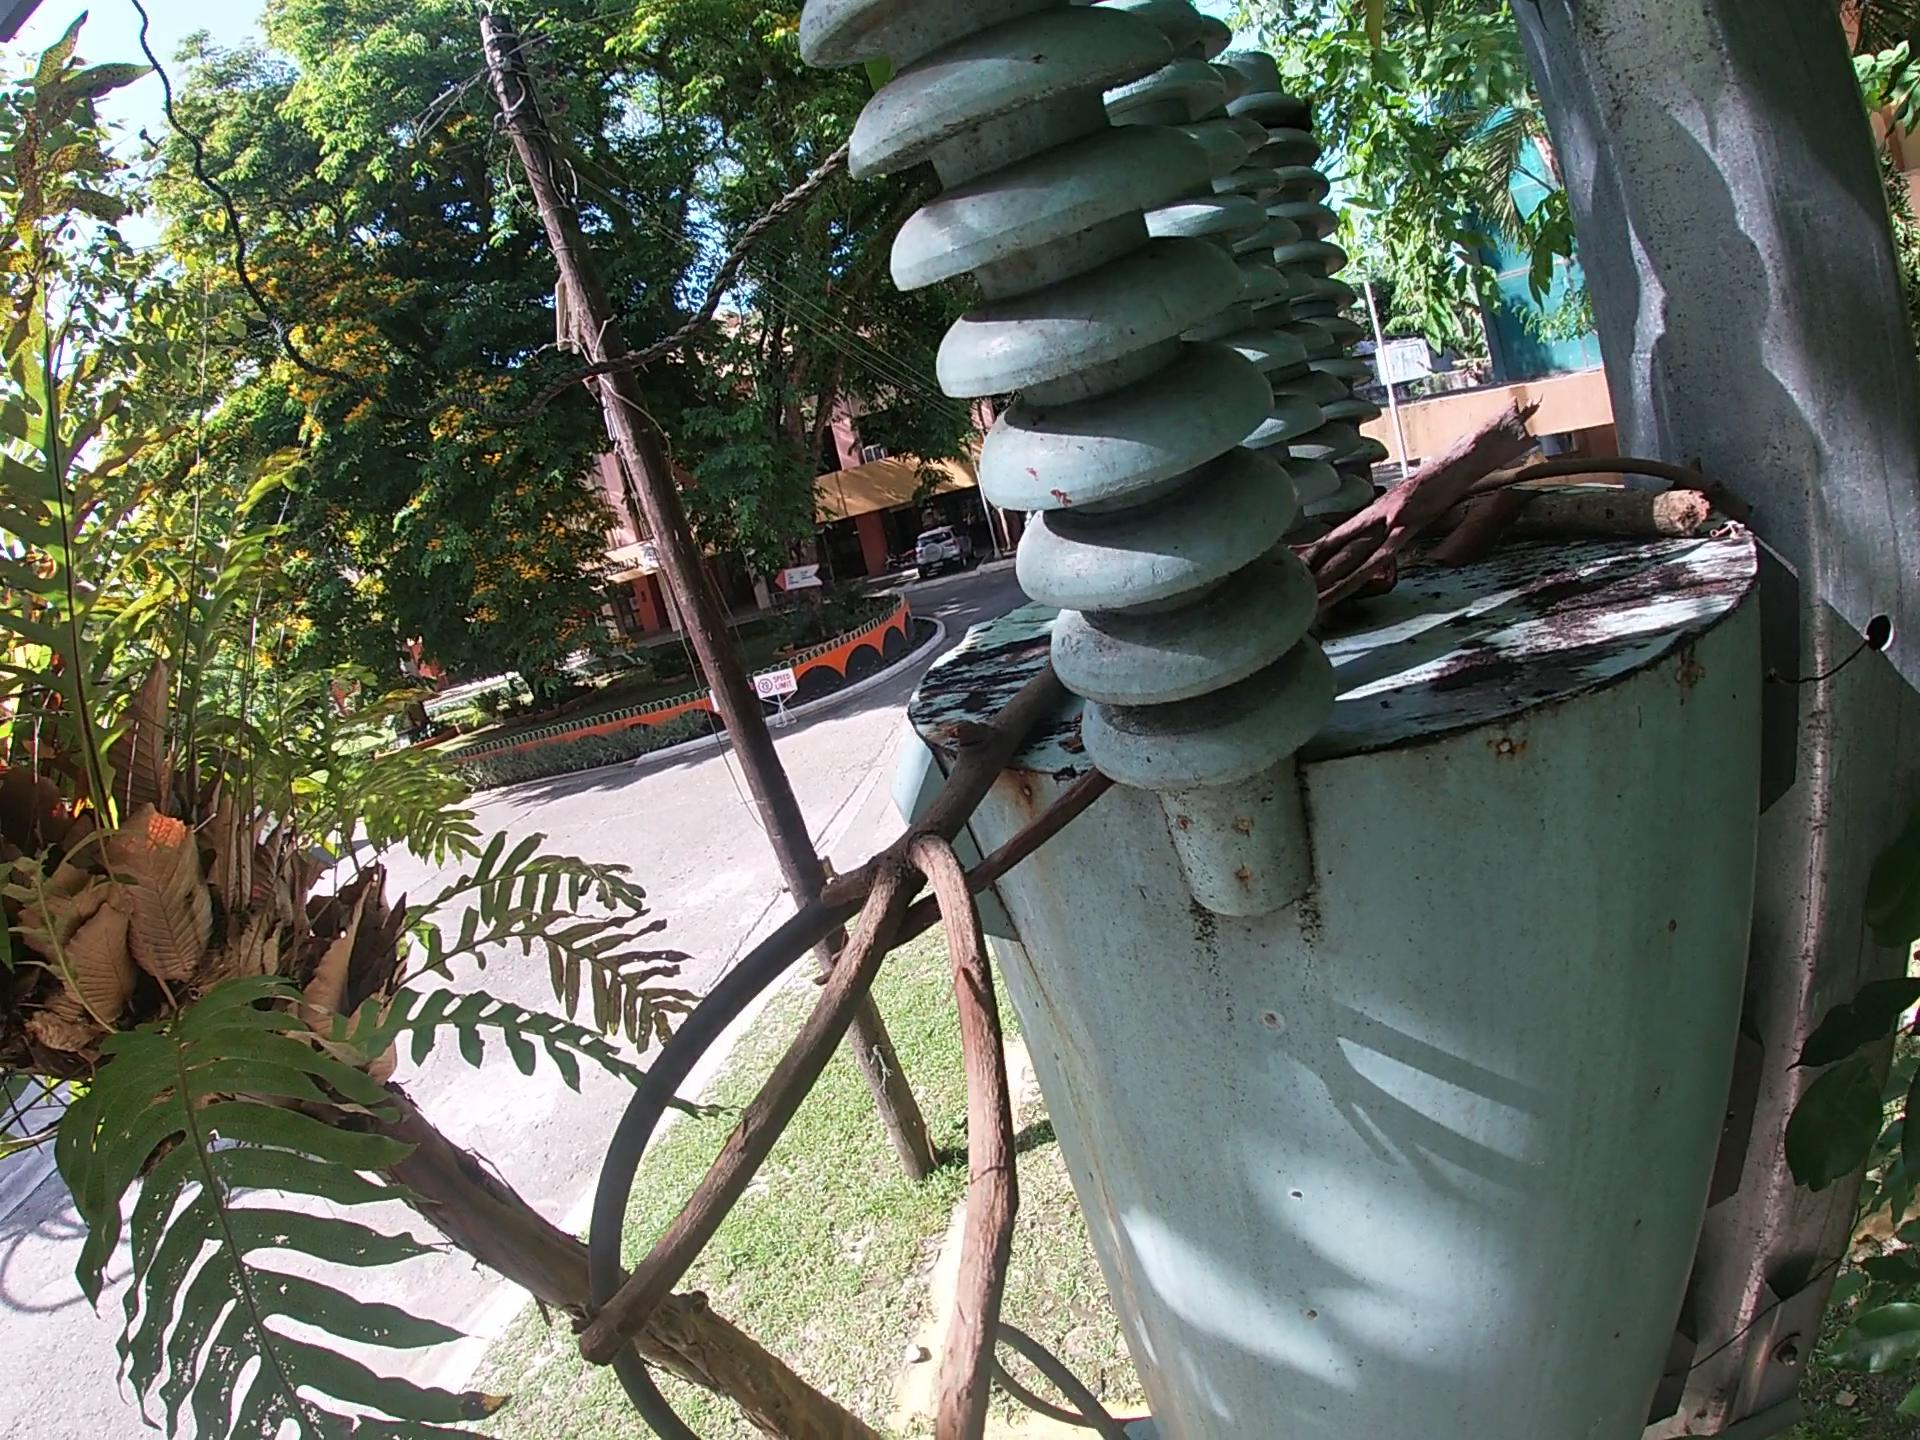leaf: (1420, 479, 1542, 570)
tree branch: (559, 652, 1081, 1440), (1300, 393, 1547, 622), (881, 764, 1120, 953), (1479, 452, 1757, 510), (1504, 484, 1711, 557)
